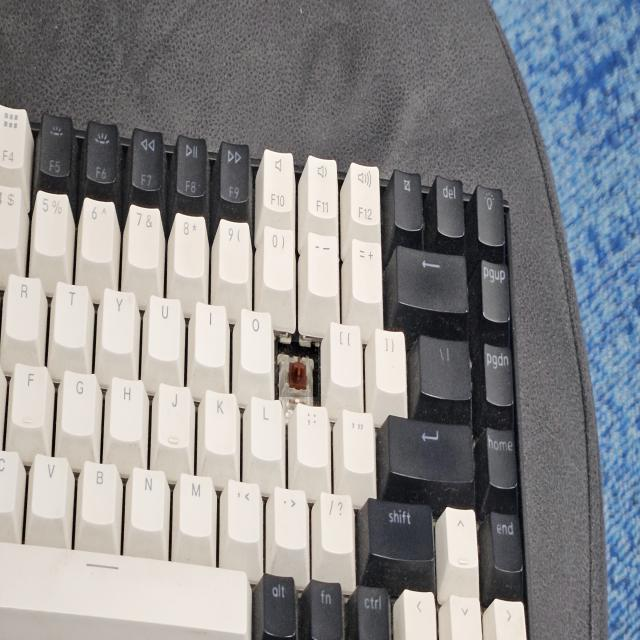C: (278, 342, 318, 397)
